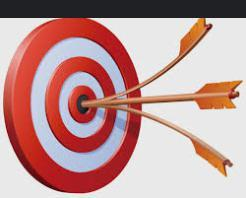target_red: (2, 17, 143, 194)
